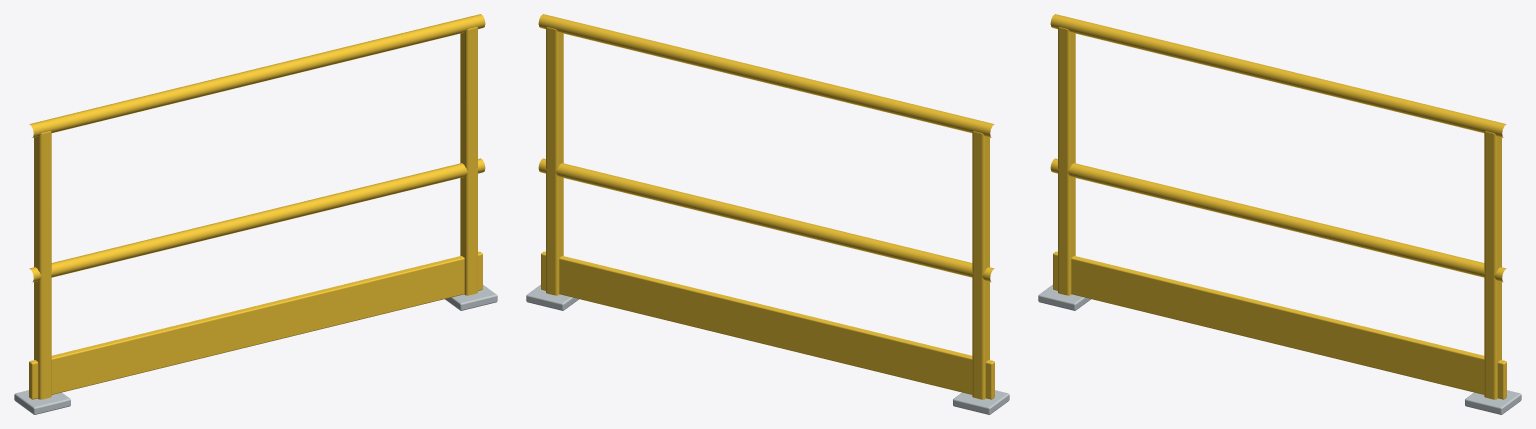
The model's file is recycling-centre-and-material-sorting-machinery-guard--ae035c83__31146.glb.
3 renders of one model, left to right at view 1: azimuth 30°, elevation 25°; view 2: azimuth 150°, elevation 25°; view 3: azimuth 330°, elevation 25°, orthographic.
Visible parts, largest first — view 1: machinery-guard-rail; view 2: machinery-guard-rail; view 3: machinery-guard-rail.
Part boxes in pixels (x1,y1,x2,y2): machinery-guard-rail: [14, 14, 497, 414]; machinery-guard-rail: [526, 14, 1009, 414]; machinery-guard-rail: [1038, 14, 1521, 414].
Size of the model in its own units: 1.85 by 1.07 by 0.14.
